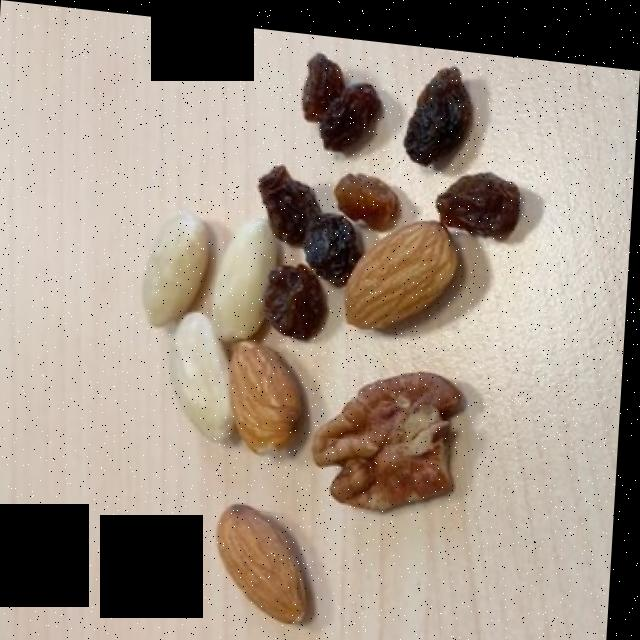dried-raisins: (264, 42, 516, 318)
